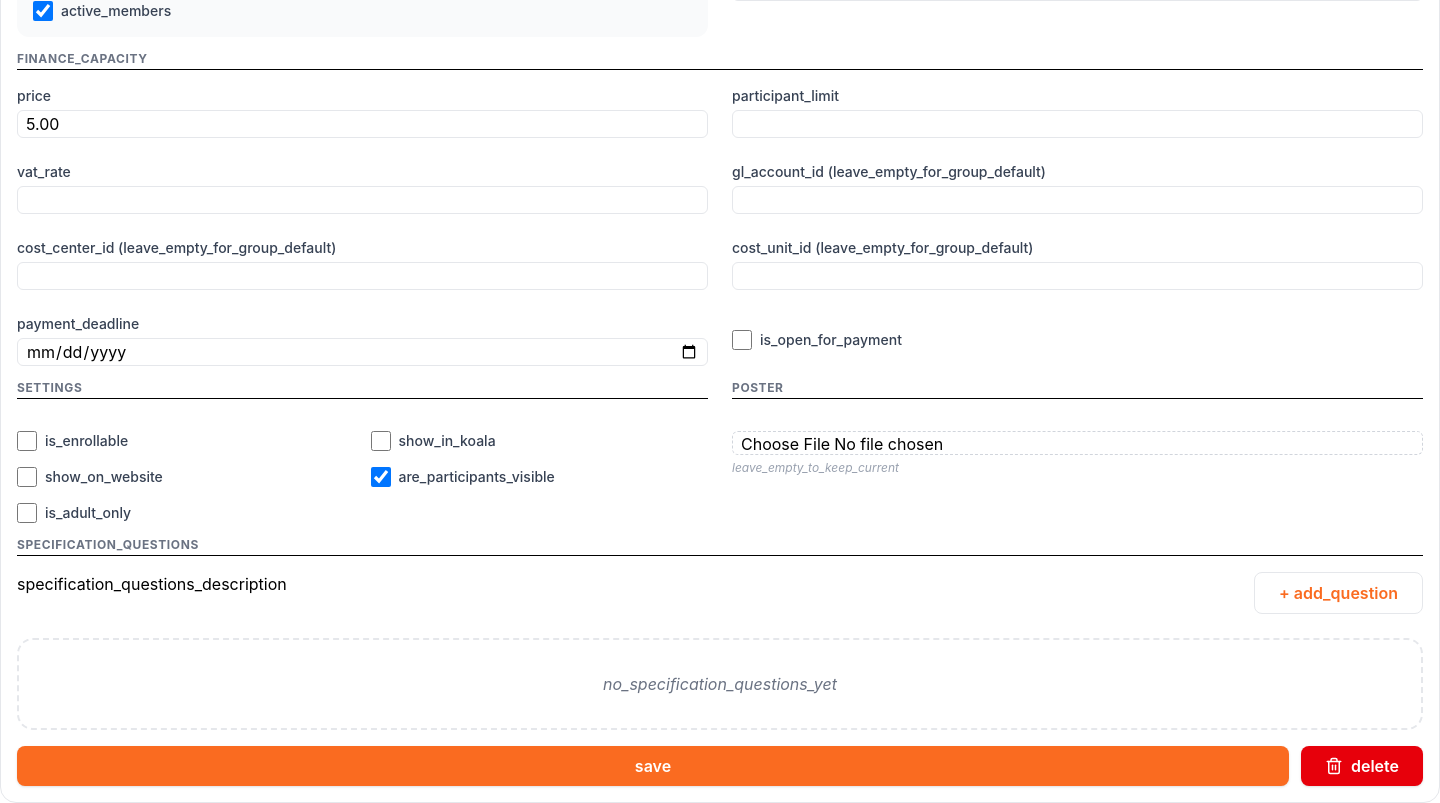
Test case: EditActivityForm › closes the delete modal on cancel without deleting
(page scrolled)
What coordinates should you click on to do the following:
click the button "delete"
I would click on:
 (1362, 766)
Its box is [1301,746,1423,786].
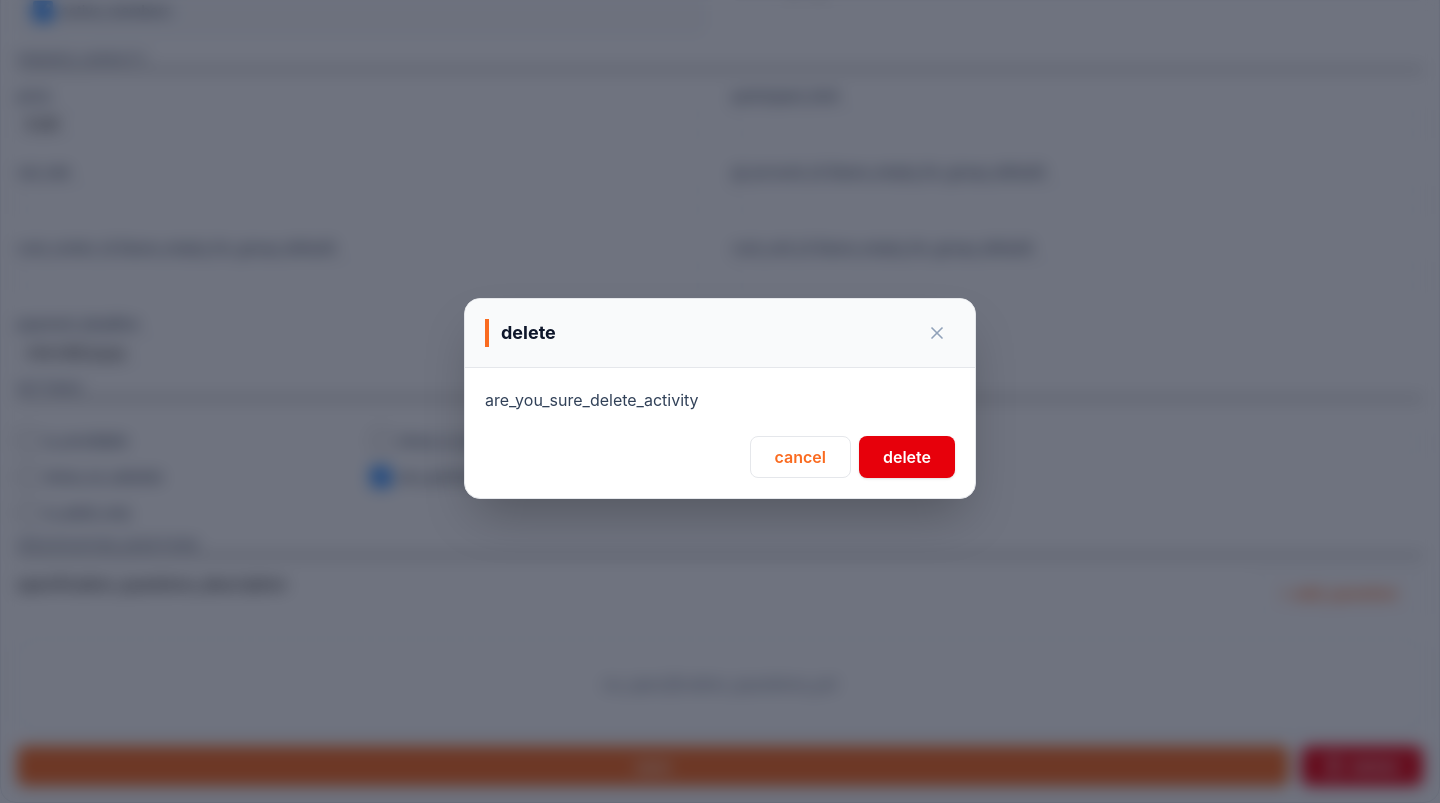
What coordinates should you click on to do the following:
click the button "cancel"
I would click on:
 (800, 456)
Its box is [750,436,851,478].
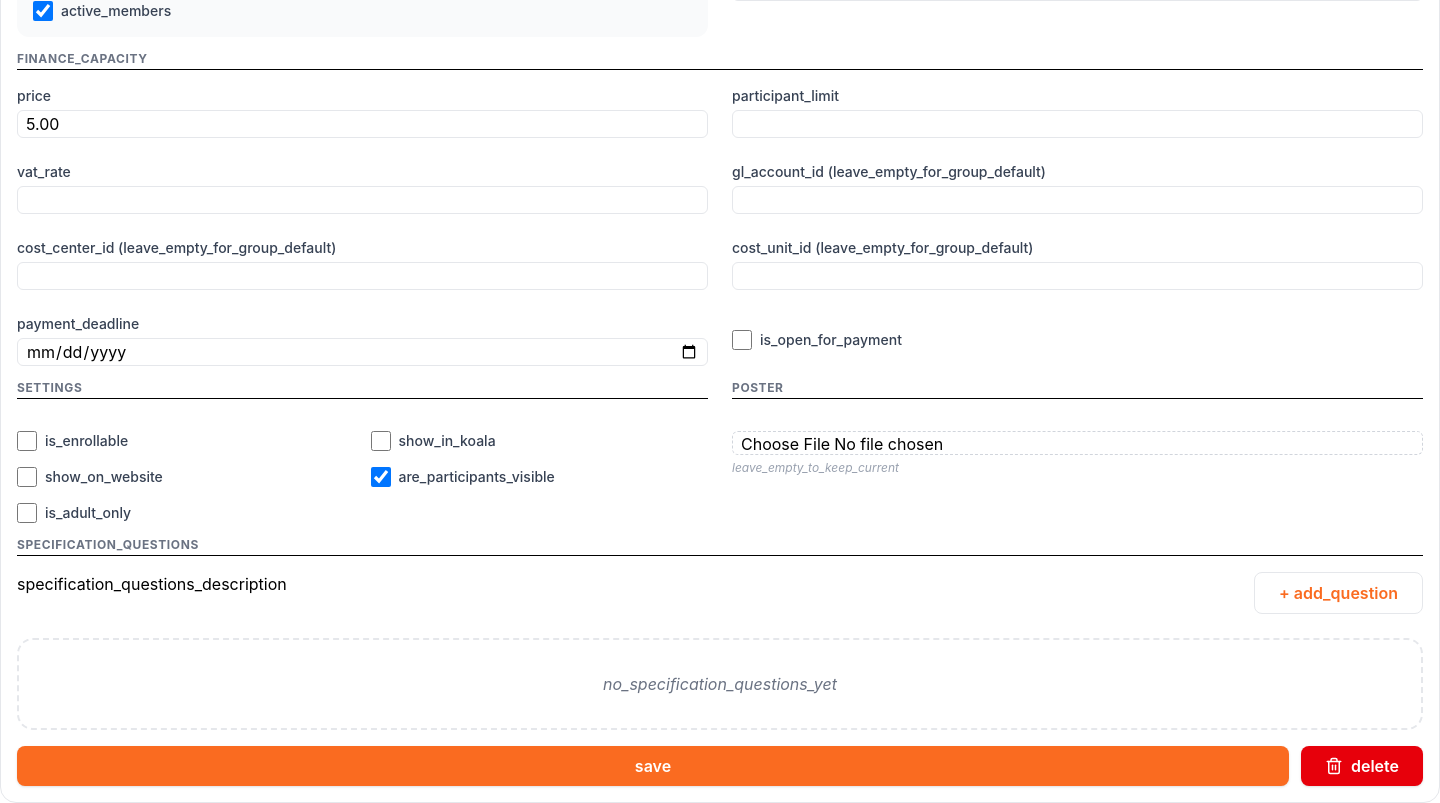
Expected: the text "are_you_sure_delete_activity" is gone
